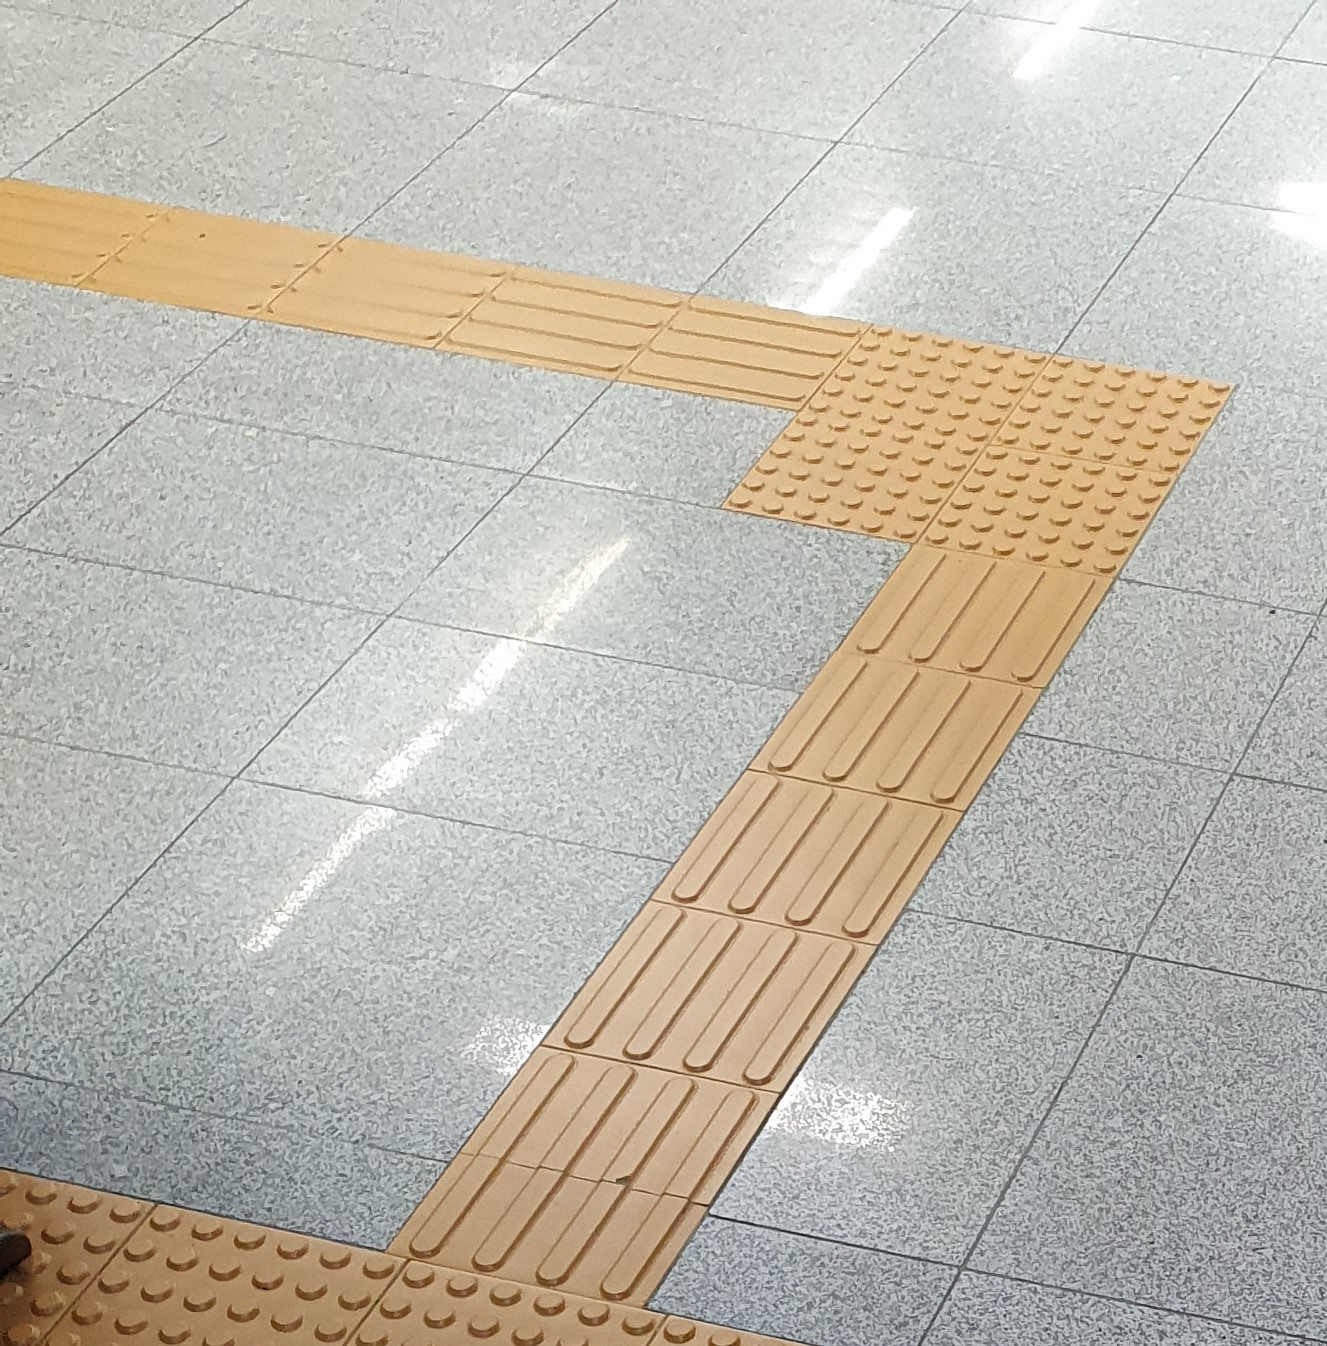guideBlock: (531, 1056, 766, 1222), (730, 781, 924, 962), (600, 918, 815, 1052), (890, 558, 1074, 664), (813, 664, 961, 794), (324, 248, 481, 351), (687, 294, 821, 406), (513, 278, 663, 374)
warningBlock: (1013, 378, 1188, 496), (777, 415, 959, 528), (971, 456, 1114, 576), (841, 335, 996, 436)
